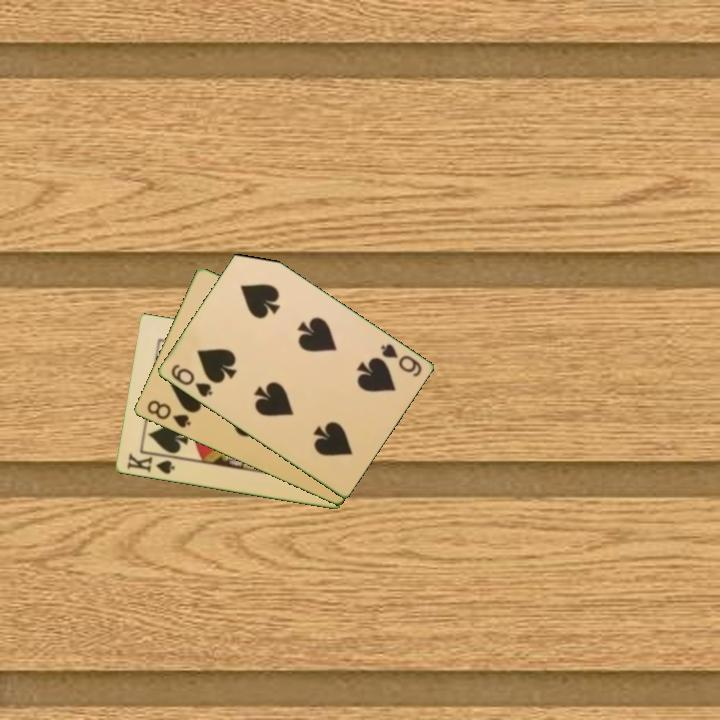6s: (167, 360, 215, 400), (377, 340, 425, 380)
8s: (143, 397, 193, 431)
Ks: (123, 450, 179, 477)
